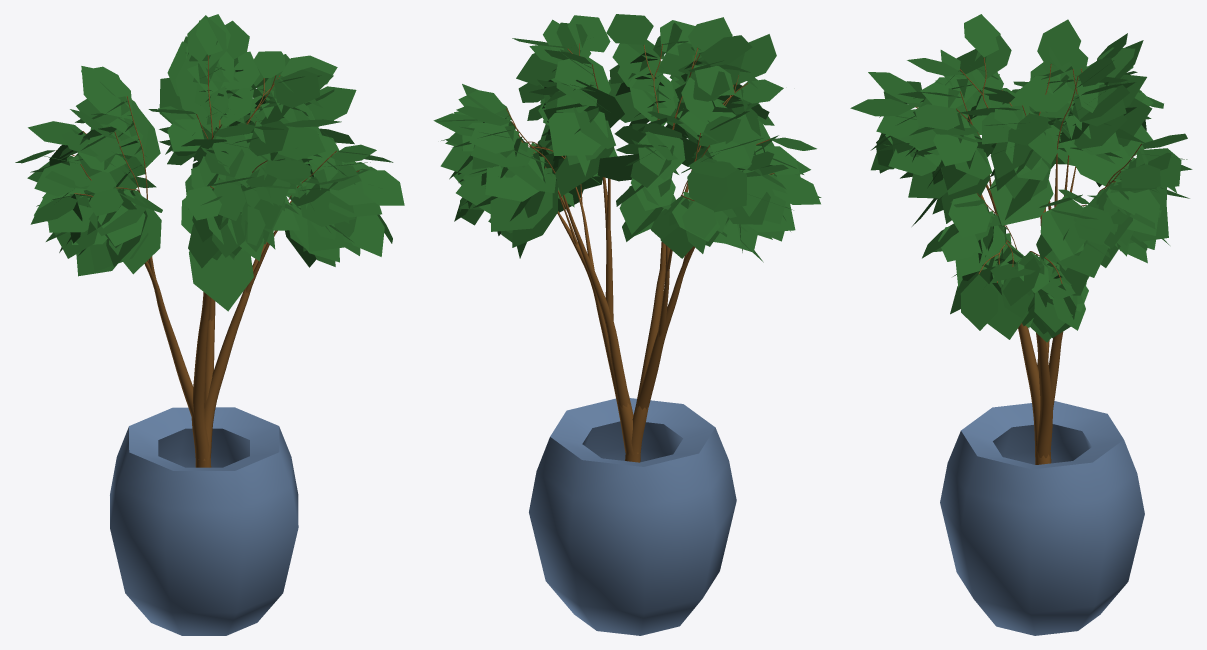
The model's file is plant1.fbx.
The picture shows the model from 3 angles, left to right: view 1: azimuth 30°, elevation 25°; view 2: azimuth 150°, elevation 25°; view 3: azimuth 270°, elevation 25°; orthographic projection. The views are drawn at different scales.
Parts seen in each view (by area): view 1: Cube.016; view 2: Cube.016; view 3: Cube.016.
Part boxes in pixels (x1,y1,x2,y2): Cube.016: (15,14,404,635); Cube.016: (433,14,821,635); Cube.016: (850,14,1192,635).
Size of the model in its own units: 92.08 by 170 by 111.
